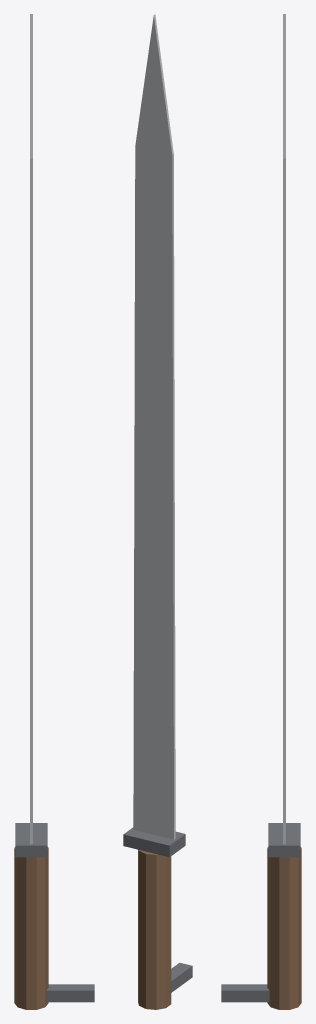
Rendered from lame_odm.glb.
The picture shows the model from 3 angles, left to right: view 1: azimuth 90°, elevation 25°; view 2: azimuth 150°, elevation 25°; view 3: azimuth 270°, elevation 25°; orthographic projection.
Parts seen in each view (by area): view 1: lame_odm; view 2: lame_odm; view 3: lame_odm.
Boxes of the visible parts, x1,y1,x2,y2 form: lame_odm: [14, 14, 94, 1009]; lame_odm: [123, 14, 192, 1009]; lame_odm: [221, 14, 301, 1009].
Size of the model in its own units: 0.05 by 1.02 by 0.075.
